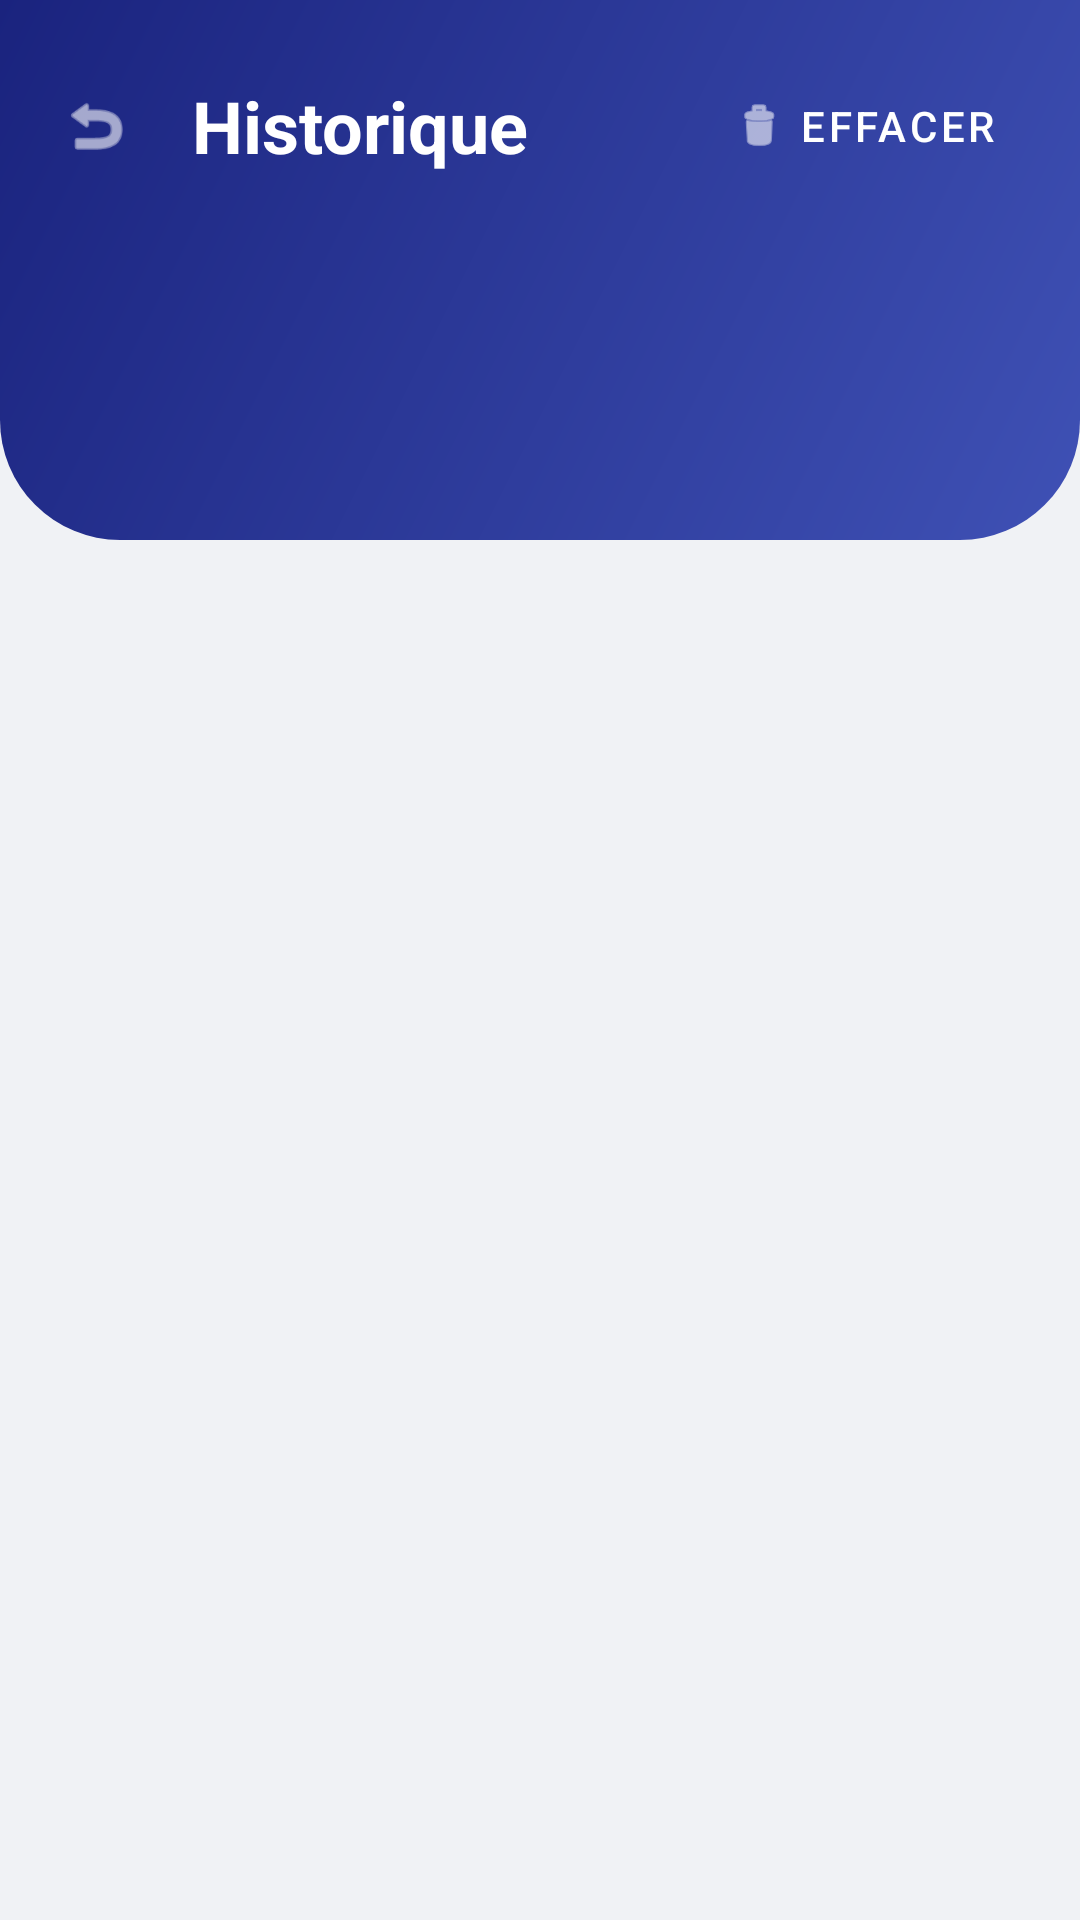

Where to tap for icons on this 1080px x 1920px app screen, as [x,y]:
revert: [97,126]
